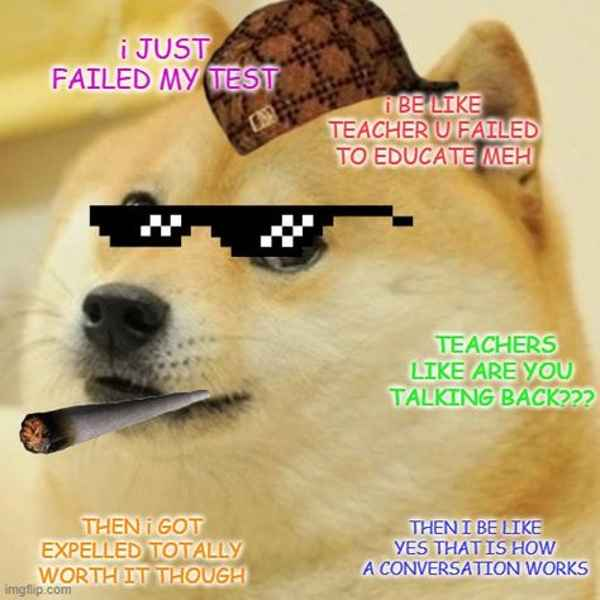doge: (56, 119, 403, 496)
